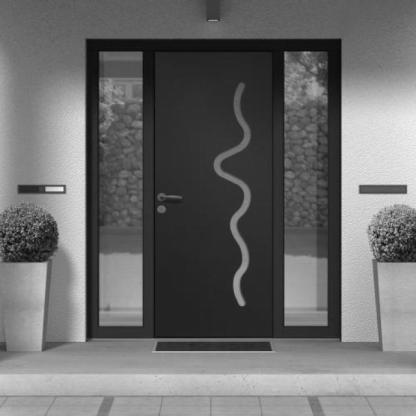door: (137, 26, 283, 343)
